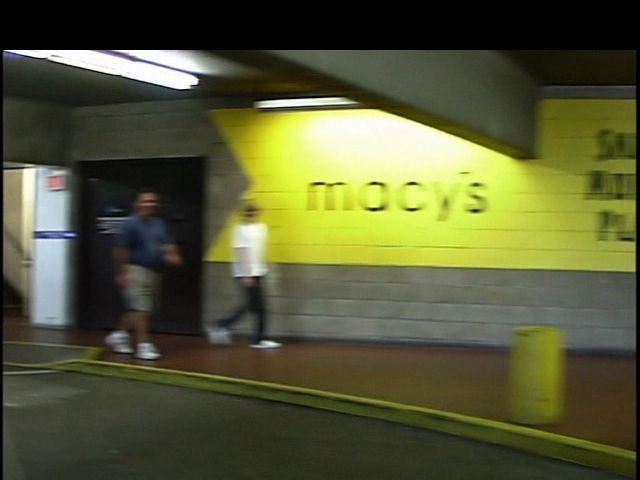person: (88, 183, 172, 364), (193, 192, 277, 362)
